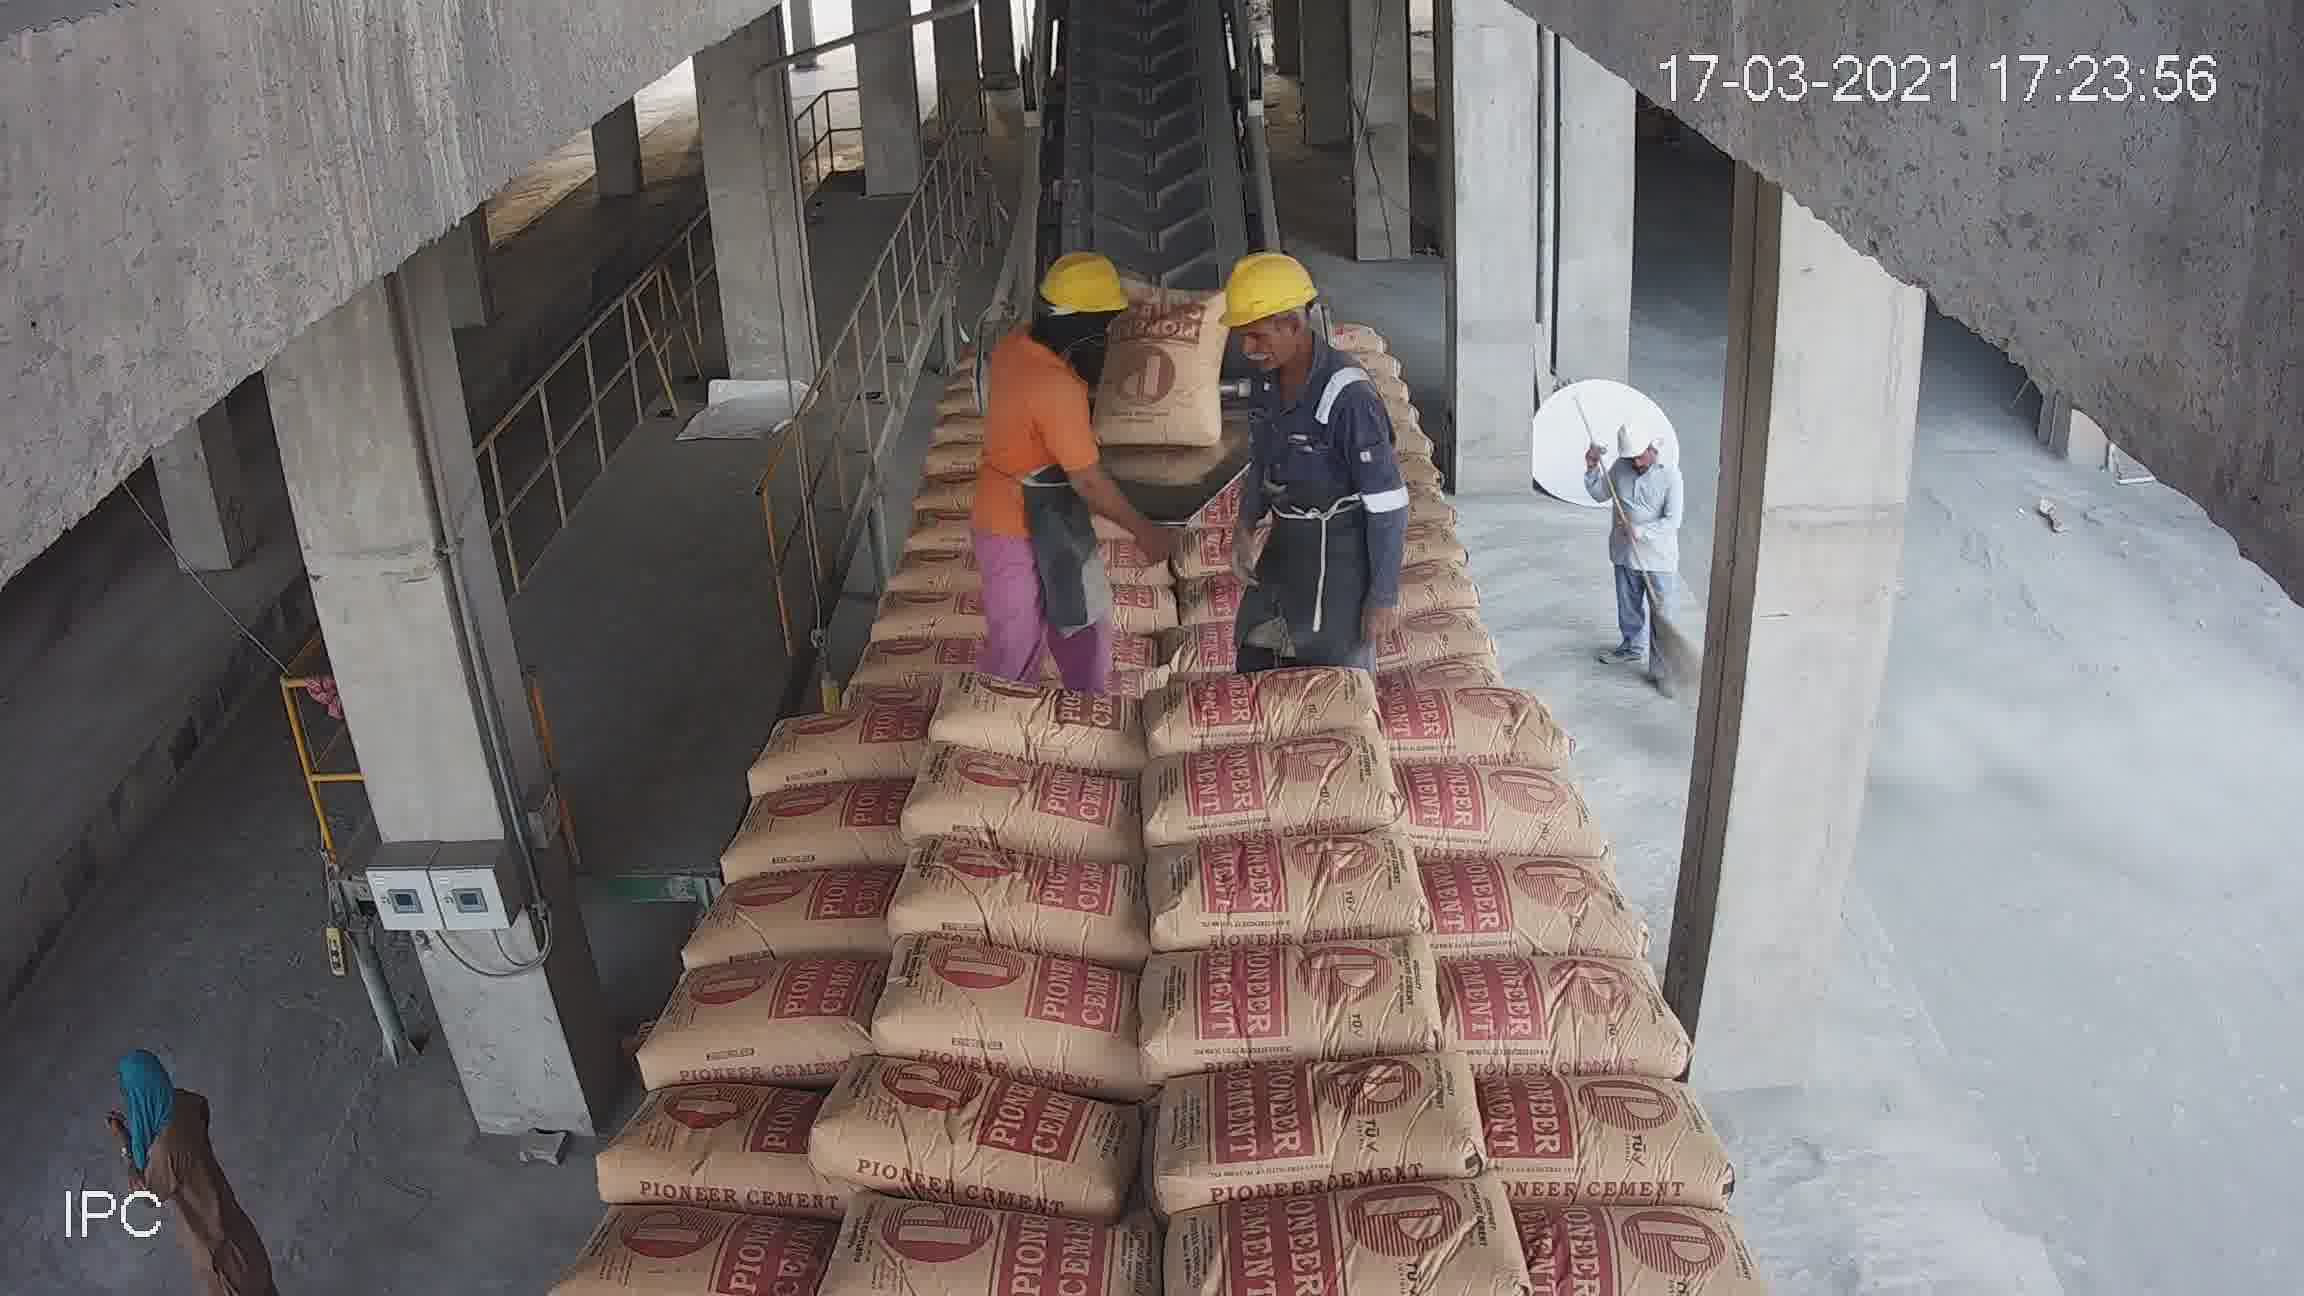bag: (1139, 316, 1253, 438), (1103, 51, 1199, 144)
bag_h: (1136, 1048, 1495, 1195), (1423, 945, 1696, 1105), (1155, 1177, 1522, 1296), (785, 1078, 1157, 1193), (861, 929, 1152, 1073), (1163, 929, 1461, 1068), (657, 946, 900, 1101), (1478, 1059, 1756, 1188), (815, 1198, 1169, 1296), (1157, 828, 1431, 954), (1146, 722, 1415, 847), (1143, 555, 1375, 688), (892, 850, 1139, 965), (1499, 1207, 1790, 1293), (597, 1098, 809, 1215), (680, 862, 889, 981), (1437, 836, 1612, 976), (1158, 658, 1397, 758), (923, 763, 1143, 862), (733, 707, 956, 804), (737, 779, 921, 896), (570, 1215, 820, 1296), (1410, 741, 1582, 851), (786, 623, 972, 726), (926, 682, 1161, 763), (918, 560, 1149, 642), (967, 612, 1171, 695), (1155, 517, 1345, 604), (1396, 609, 1568, 699), (1386, 693, 1573, 772), (1331, 502, 1492, 592), (790, 578, 957, 655), (1380, 541, 1521, 631), (1161, 495, 1326, 567), (831, 524, 961, 608), (1305, 377, 1442, 441), (1312, 451, 1454, 511), (956, 527, 1135, 574), (1336, 400, 1443, 472), (1320, 332, 1412, 399), (1071, 440, 1188, 475), (1313, 324, 1394, 373), (1070, 399, 1165, 437)
belt: (1041, 5, 1256, 275)
